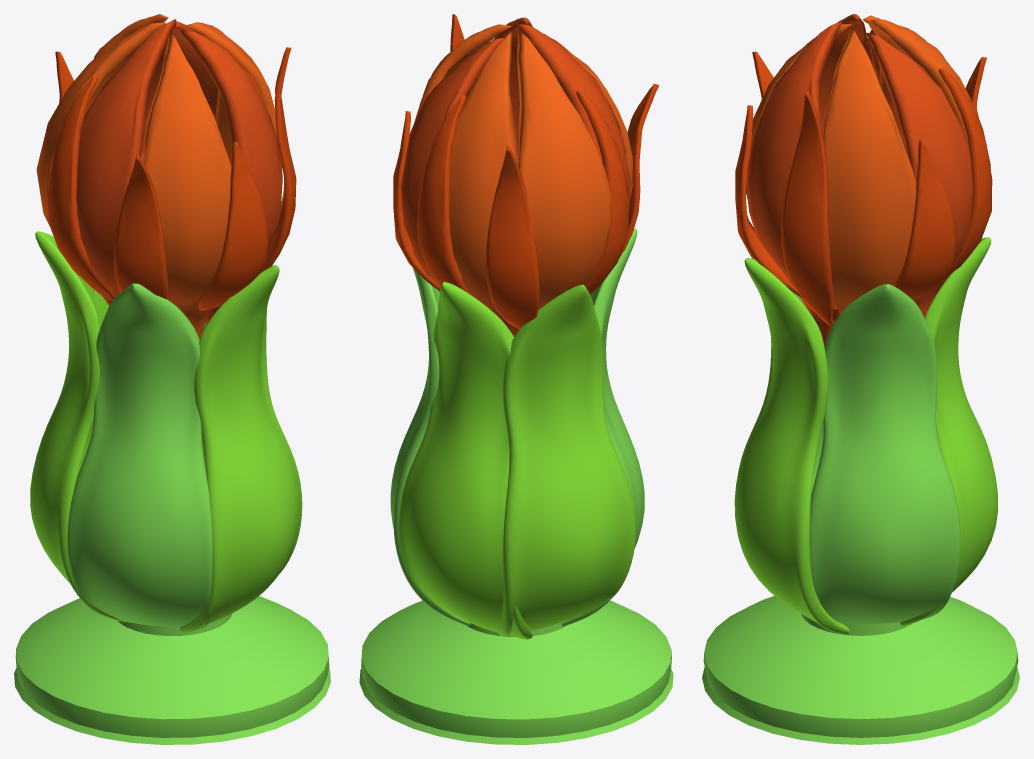
The model's file is fulgen.glb.
3 views of the same model, side by side, from view 1: azimuth 30°, elevation 25°; view 2: azimuth 150°, elevation 25°; view 3: azimuth 270°, elevation 25° (orthographic).
Visible parts, largest first — view 1: Circle.025, Circle.026, Circle.024, Circle.033, Circle.023, Circle.032, Circle.031, Circle.036, Circle.035, Circle.037, Circle.029, Circle.034 (+3 smaller); view 2: Circle.023, Circle.026, Circle.022, Circle.029, Circle.028, Circle.038, Circle.027, Circle.039, Circle.021, Circle.025, Circle.032, Circle.037 (+5 smaller); view 3: Circle.021, Circle.026, Circle.024, Circle.030, Circle.022, Circle.031, Circle.027, Circle.034, Circle.040, Circle.039, Circle.036, Circle.028 (+3 smaller).
Part boxes in pixels (x1,y1,x2,y2): Circle.025: (67,283,212,629); Circle.026: (14,596,330,744); Circle.024: (180,265,302,633); Circle.033: (143,33,231,328); Circle.023: (30,231,126,622); Circle.032: (76,19,176,297); Circle.031: (180,30,282,324); Circle.036: (197,141,268,310); Circle.035: (114,154,167,299); Circle.037: (47,75,114,300); Circle.029: (36,22,166,305); Circle.034: (261,47,296,272); Circle.023: (498,284,635,636); Circle.026: (359,600,673,744); Circle.022: (399,281,533,639); Circle.029: (517,31,613,309); Circle.028: (449,31,518,336); Circle.038: (486,146,539,329); Circle.027: (400,37,504,288); Circle.039: (416,95,469,293); Circle.021: (390,267,470,626); Circle.025: (561,228,644,626); Circle.032: (516,23,631,201); Circle.037: (576,90,629,294); Circle.021: (809,284,960,624); Circle.026: (702,596,1019,744); Circle.024: (734,258,849,634); Circle.030: (823,28,922,313); Circle.022: (900,237,998,625); Circle.031: (746,21,842,345); Circle.027: (866,32,972,317); Circle.034: (781,91,834,326); Circle.040: (895,140,955,301); Circle.039: (938,68,992,282); Circle.036: (735,105,801,297); Circle.028: (871,19,979,141).
Size of the model in its own units: 2.82 by 6.46 by 2.82.
